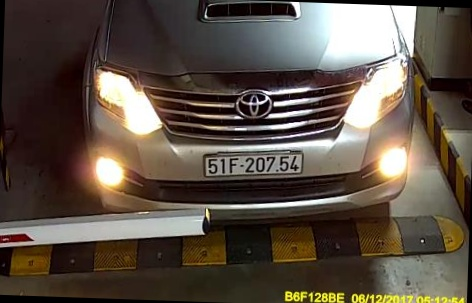plate: (202, 148, 309, 179)
